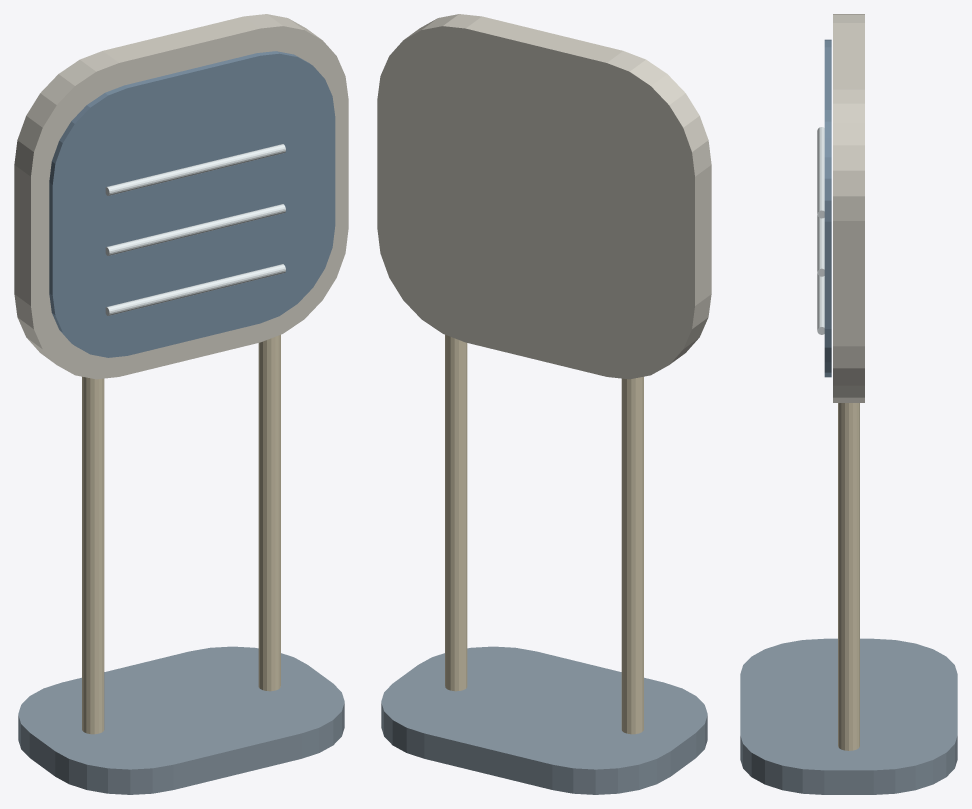
Rendered from restaurant_menu_stand.glb.
The picture shows the model from 3 angles, left to right: view 1: azimuth 30°, elevation 25°; view 2: azimuth 150°, elevation 25°; view 3: azimuth 270°, elevation 25°; orthographic projection. The views are drawn at different scales.
Visible parts, largest first — view 1: decor_354d66_matte, decor_455665_metal, decor_aaa493_matte, decor_b7a578_metal, decor_c9d9de_matte; view 2: decor_aaa493_matte, decor_455665_metal, decor_b7a578_metal; view 3: decor_455665_metal, decor_aaa493_matte, decor_b7a578_metal, decor_354d66_matte, decor_c9d9de_matte.
Boxes of the visible parts, x1,y1,x2,y2 form: decor_354d66_matte: (49, 51, 335, 357); decor_455665_metal: (18, 646, 344, 794); decor_aaa493_matte: (14, 14, 348, 379); decor_b7a578_metal: (82, 335, 280, 734); decor_c9d9de_matte: (105, 144, 285, 315); decor_aaa493_matte: (377, 14, 711, 379); decor_455665_metal: (381, 646, 707, 794); decor_b7a578_metal: (445, 335, 643, 734); decor_455665_metal: (740, 638, 957, 794); decor_aaa493_matte: (833, 14, 864, 402); decor_b7a578_metal: (838, 403, 859, 750); decor_354d66_matte: (824, 39, 831, 377); decor_c9d9de_matte: (817, 127, 824, 334).
Size of the model in its own units: 0.72 by 1.5 by 0.44.
